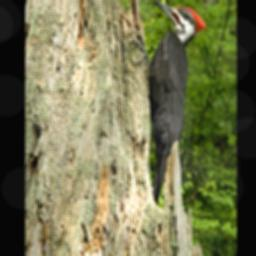Woodpecker: (129, 0, 207, 207)
